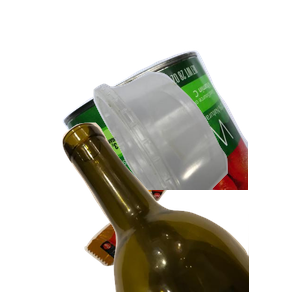glass: (60, 120, 300, 300)
metal: (60, 48, 300, 228)
plastic: (91, 69, 300, 249)
trash: (82, 151, 260, 300)
